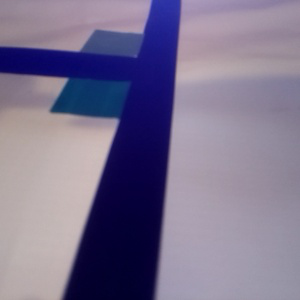bottom_left: (49, 58, 170, 118)
top_left: (79, 28, 173, 76)
